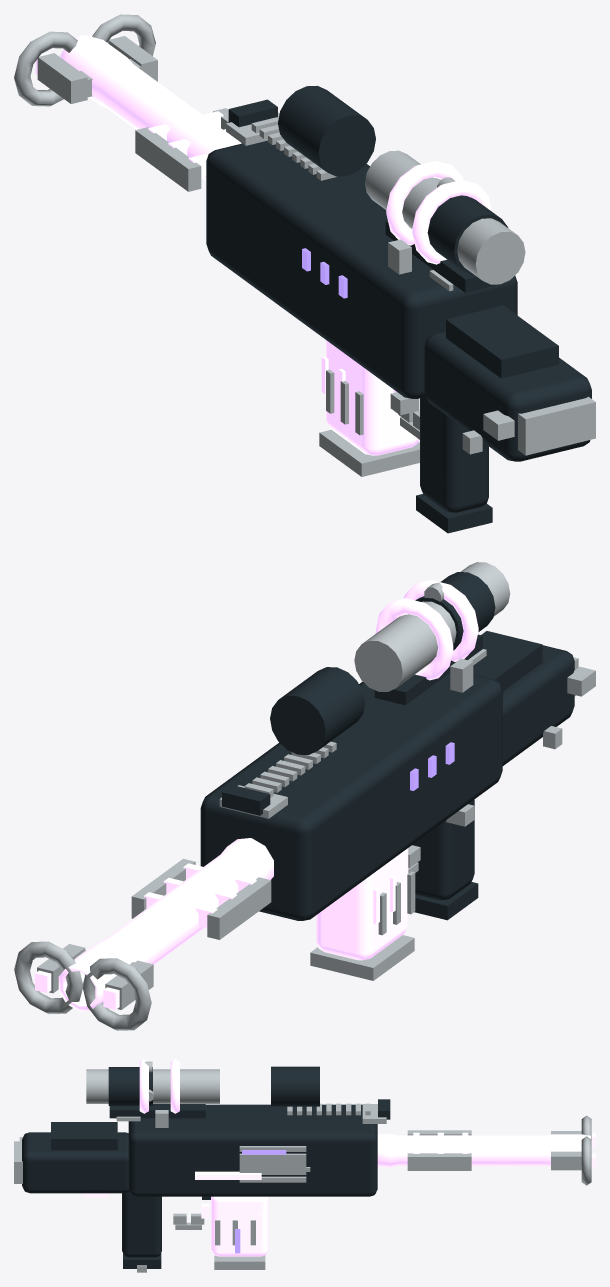
Rendered from weapon-2.glb.
3 views of the same model, one above another, from view 1: azimuth 30°, elevation 25°; view 2: azimuth 150°, elevation 25°; view 3: azimuth 270°, elevation 25° (orthographic). The views are drawn at different scales.
Parts seen in each view (by area): view 1: WorldBatch0, WorldBatch2, WorldBatch1; view 2: WorldBatch0, WorldBatch2, WorldBatch1; view 3: WorldBatch0, WorldBatch2, WorldBatch1, WorldBatch3.
Part boxes in pixels (bbox=[...]): WorldBatch0: bbox=[206, 85, 591, 533]; WorldBatch2: bbox=[14, 14, 595, 476]; WorldBatch1: bbox=[35, 34, 492, 455]; WorldBatch0: bbox=[200, 572, 574, 920]; WorldBatch2: bbox=[14, 562, 595, 1030]; WorldBatch1: bbox=[35, 580, 478, 1011]; WorldBatch0: bbox=[22, 1066, 390, 1268]; WorldBatch2: bbox=[14, 1061, 591, 1272]; WorldBatch1: bbox=[82, 1059, 595, 1256]; WorldBatch3: bbox=[235, 1150, 286, 1253].
Bounding box in the file's own units: 0.222 × 0.5044 × 1.31.
